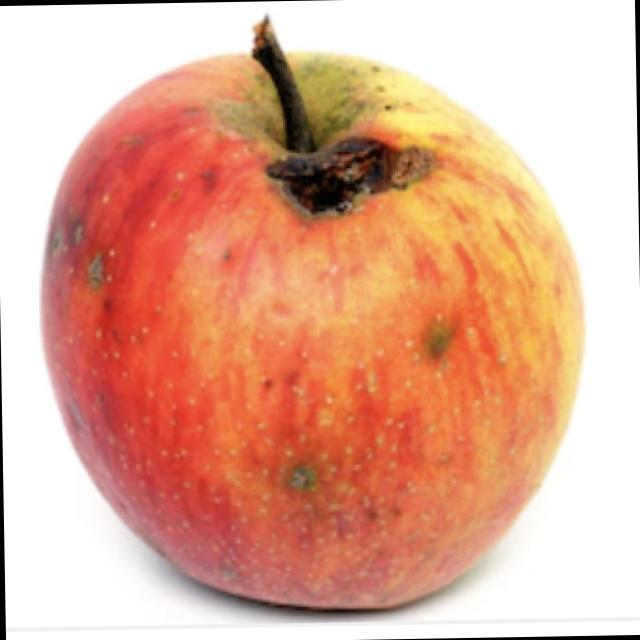rotten_apple: (35, 7, 596, 620)
